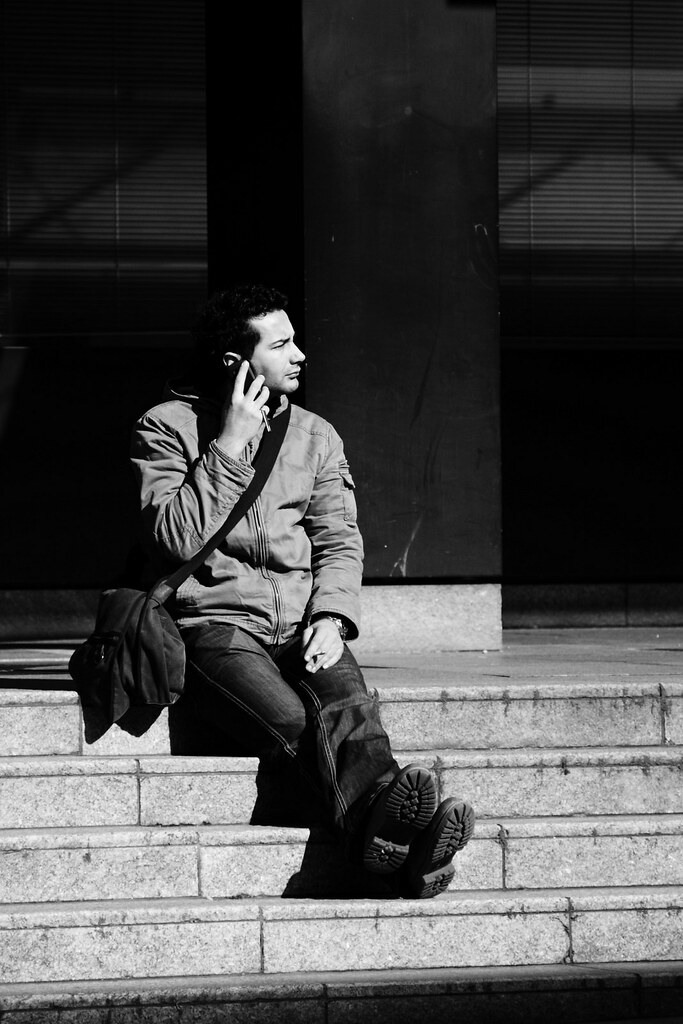phone: (208, 357, 277, 440)
talk: (209, 324, 305, 457)
